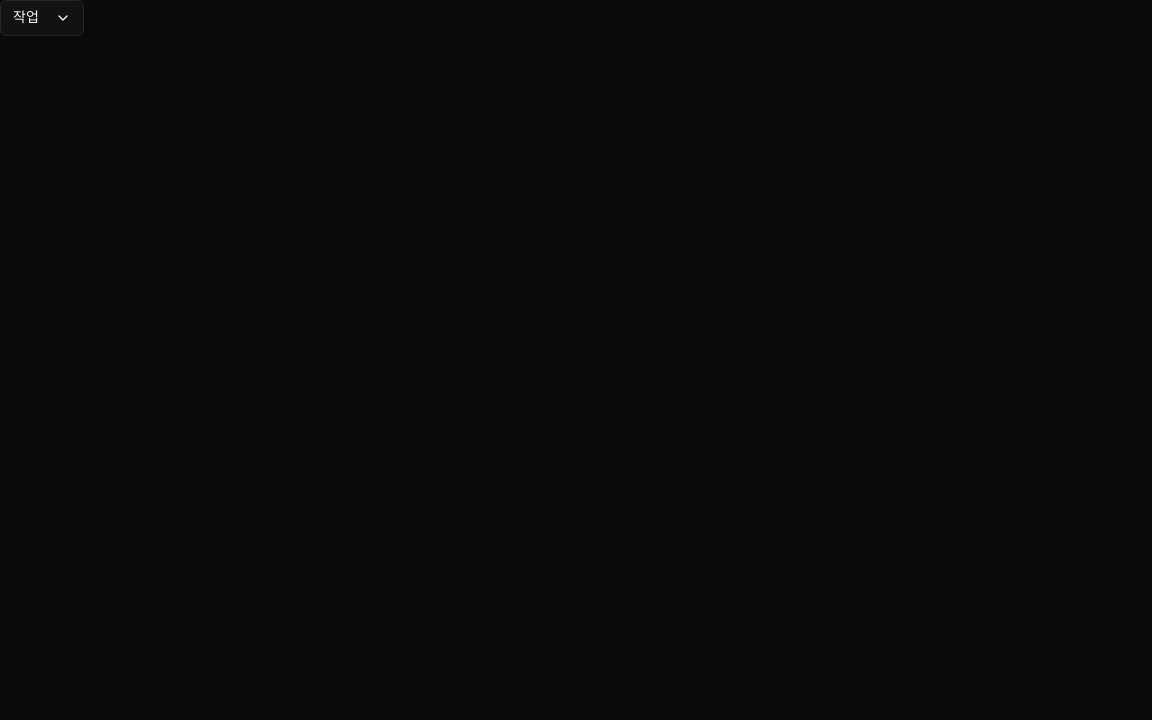
Test case: MembersActionsDropdown › opens menu and triggers withdraw dialog
The image size is (1152, 720).
Click the button "작업": (42, 18) [0,0,84,36]
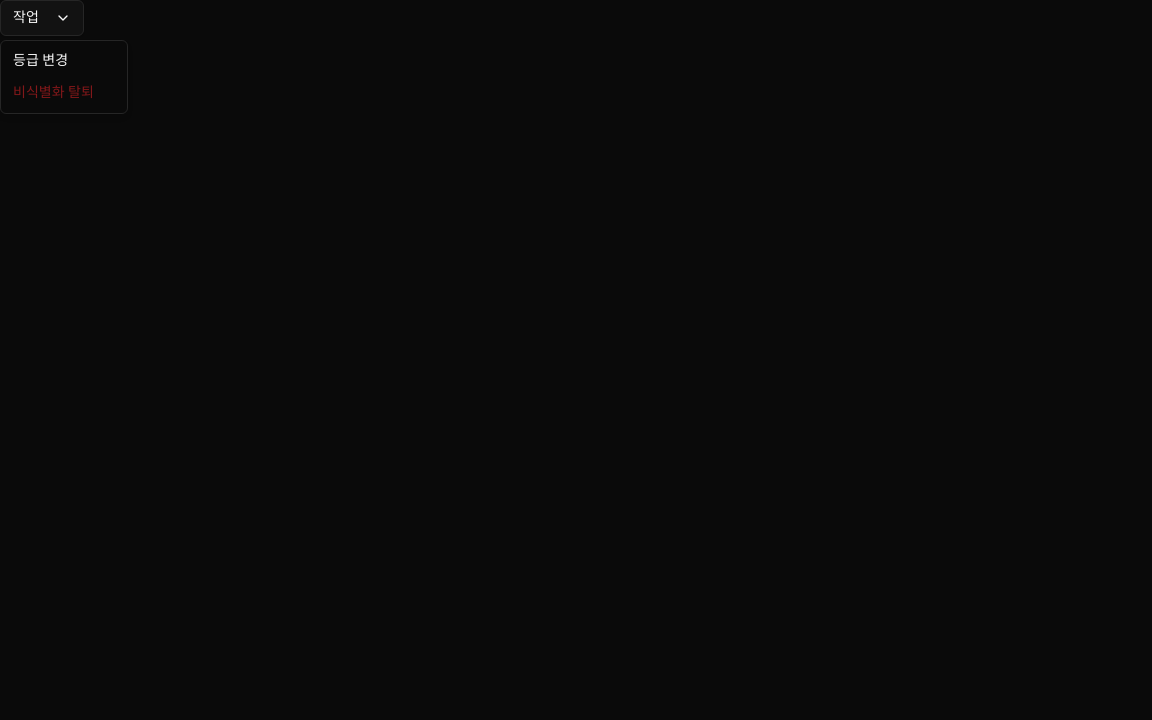
Click the menu item "비식별화 탈퇴": (53, 92) [13,85,94,100]
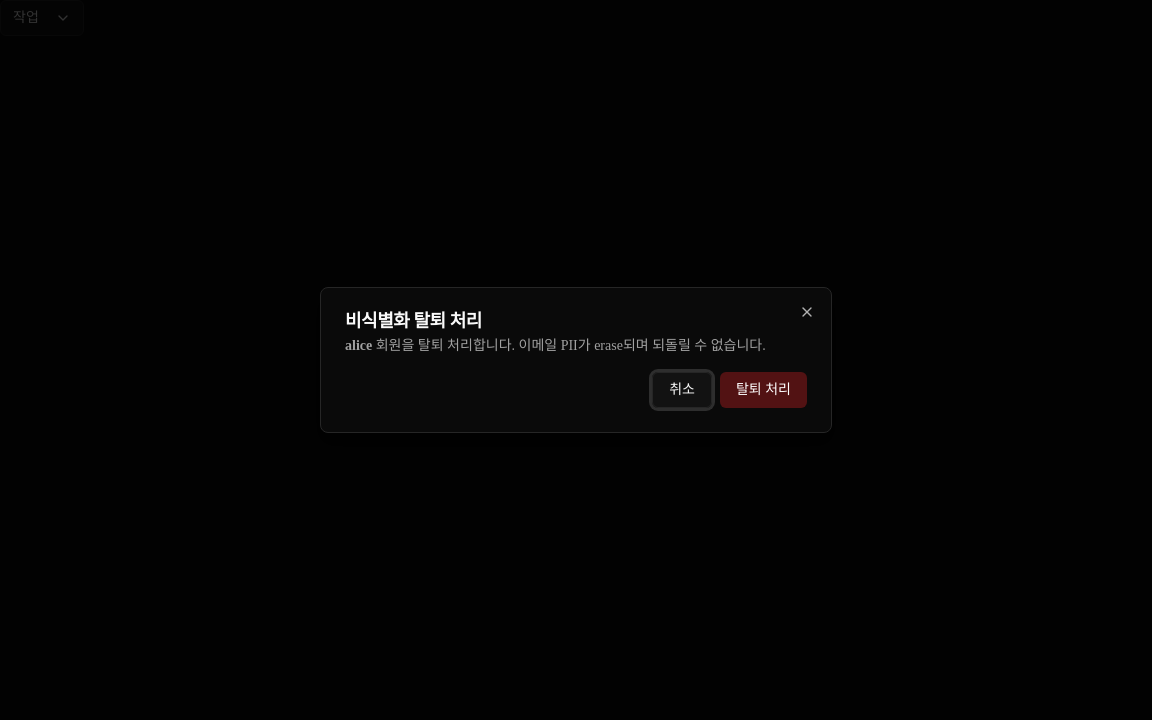
expect the heading "비식별화 탈퇴 처리" is shown: met, box [345,311,482,331]
